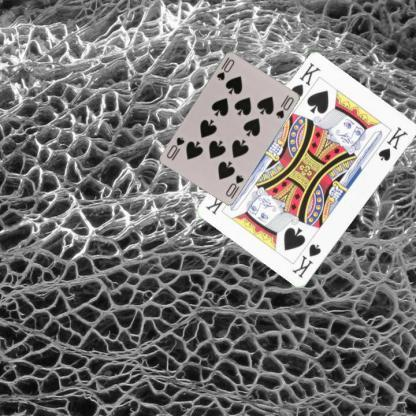10s: (214, 54, 236, 82), (223, 172, 245, 198)
Ks: (288, 60, 322, 99), (290, 242, 323, 280)
